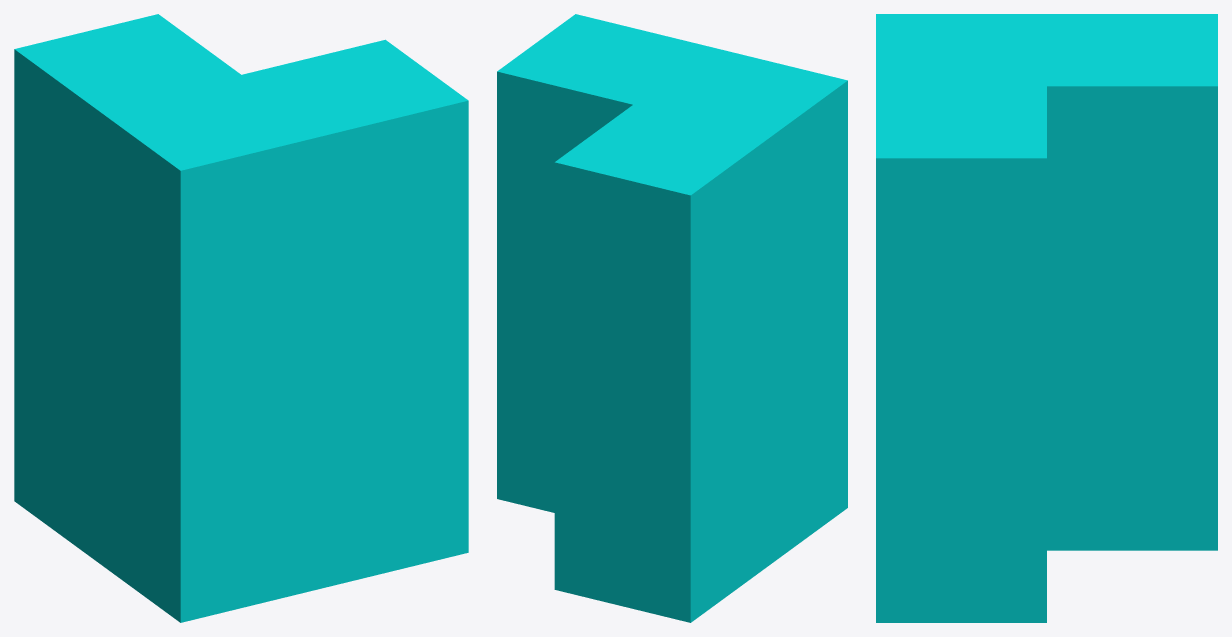
Rendered from wall_edge_2.fbx.
3 views of the same model, side by side, from view 1: azimuth 30°, elevation 25°; view 2: azimuth 150°, elevation 25°; view 3: azimuth 270°, elevation 25° (orthographic). The views are drawn at different scales.
Visible parts, largest first — view 1: wall_edge_2; view 2: wall_edge_2; view 3: wall_edge_2.
Part boxes in pixels (x1,y1,x2,y2): wall_edge_2: (14, 14, 468, 622); wall_edge_2: (497, 14, 847, 622); wall_edge_2: (876, 14, 1217, 622).
Size of the model in its own units: 2 by 3 by 2.
